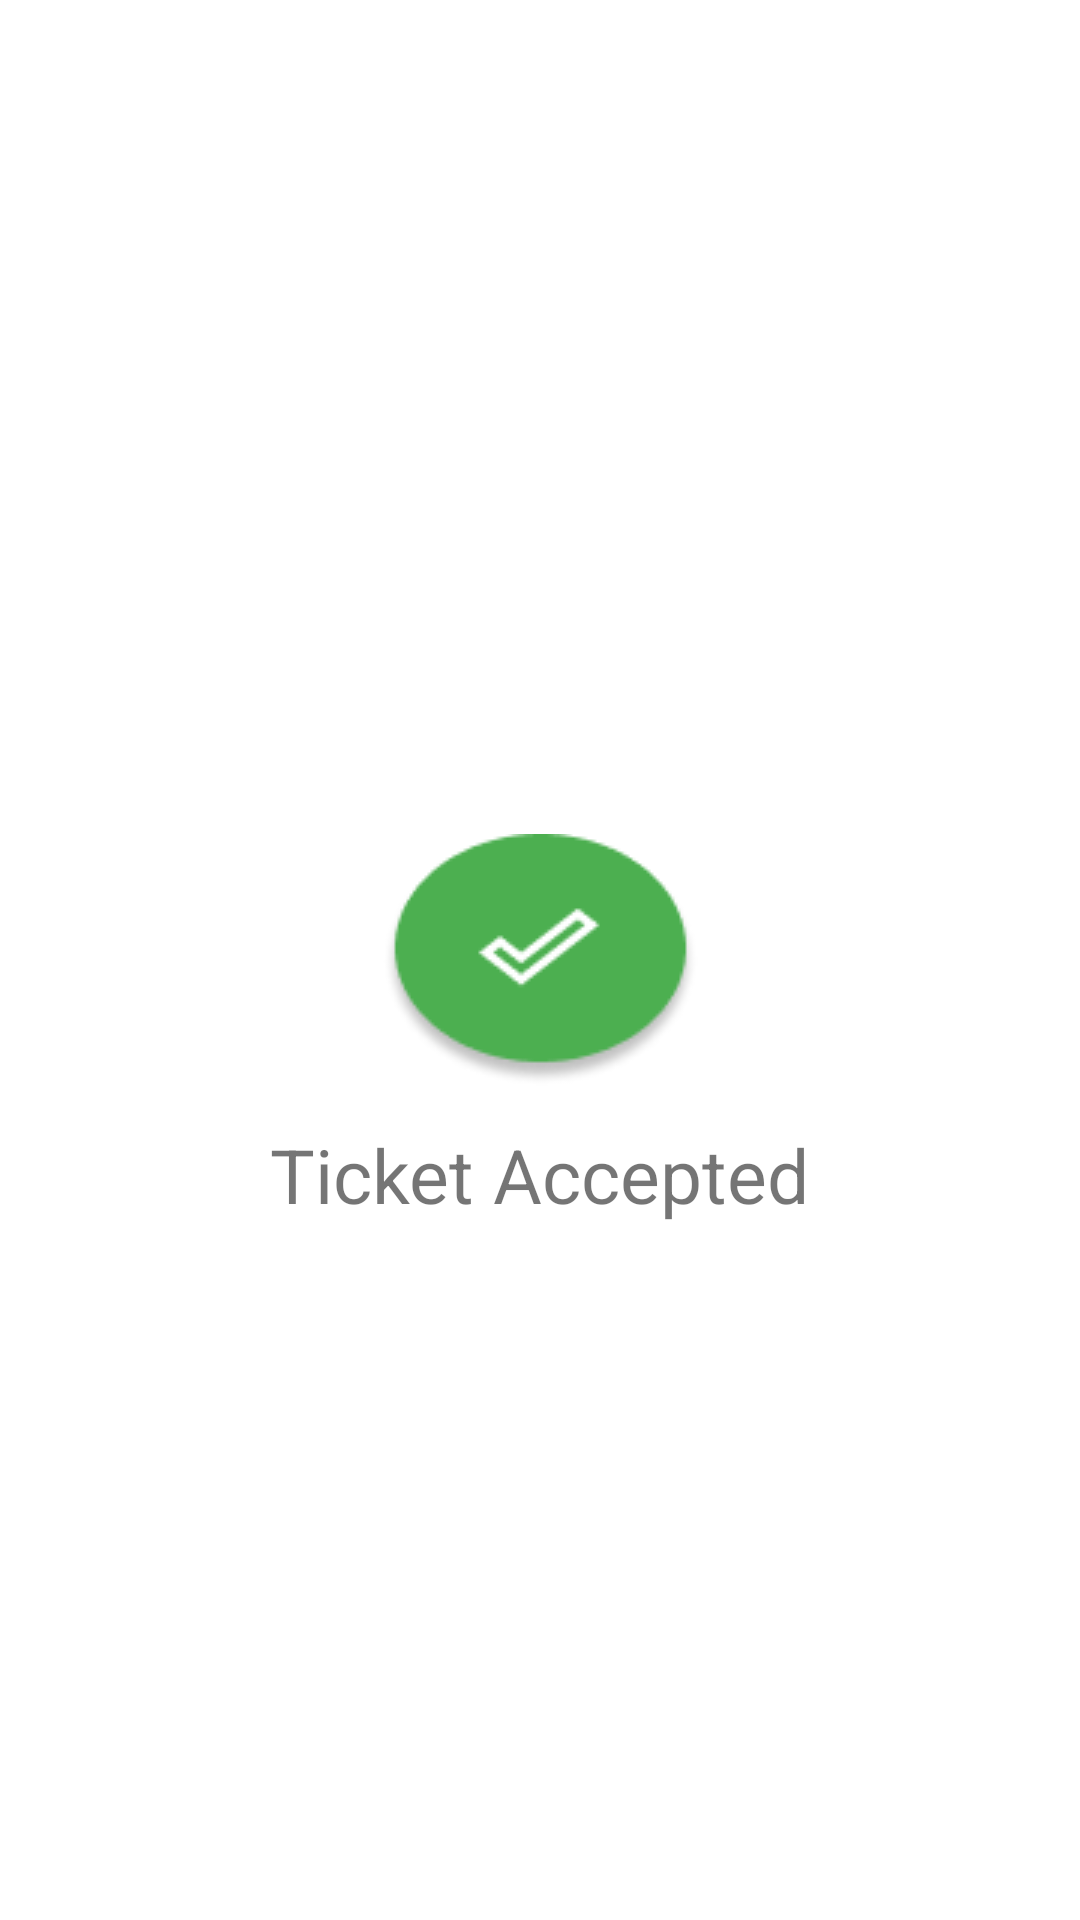

Named icons in this screenshot (1080px x 1920px) and their bounding boxes, (x1, y1, x2, y2):
acceptbutton: (393, 834, 688, 1076)
